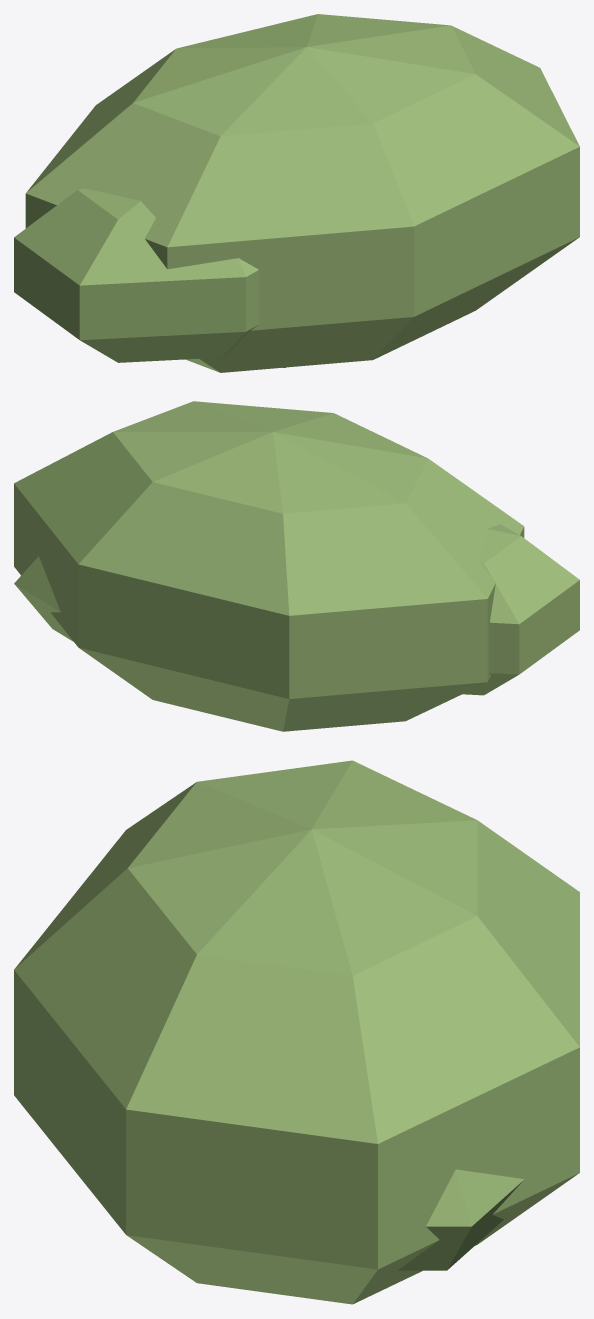
Rendered from scrub.glb.
3 views of the same model, one above another, from view 1: azimuth 30°, elevation 25°; view 2: azimuth 150°, elevation 25°; view 3: azimuth 270°, elevation 25° (orthographic). The views are drawn at different scales.
Parts seen in each view (by area): view 1: Lobe_A, Lobe_B; view 2: Lobe_A, Lobe_B, Lobe_C; view 3: Lobe_A, Lobe_C.
Boxes of the visible parts, x1=… form: Lobe_A: x1=25, y1=14, x2=579, y2=372; Lobe_B: x1=14, y1=188, x2=259, y2=362; Lobe_A: x1=14, y1=401, x2=524, y2=731; Lobe_B: x1=463, y1=524, x2=579, y2=695; Lobe_C: x1=14, y1=556, x2=73, y2=641; Lobe_A: x1=14, y1=760, x2=579, y2=1304; Lobe_C: x1=398, y1=1169, x2=524, y2=1270.
Bounding box in the file's own units: 1.83 × 1 × 1.2.
